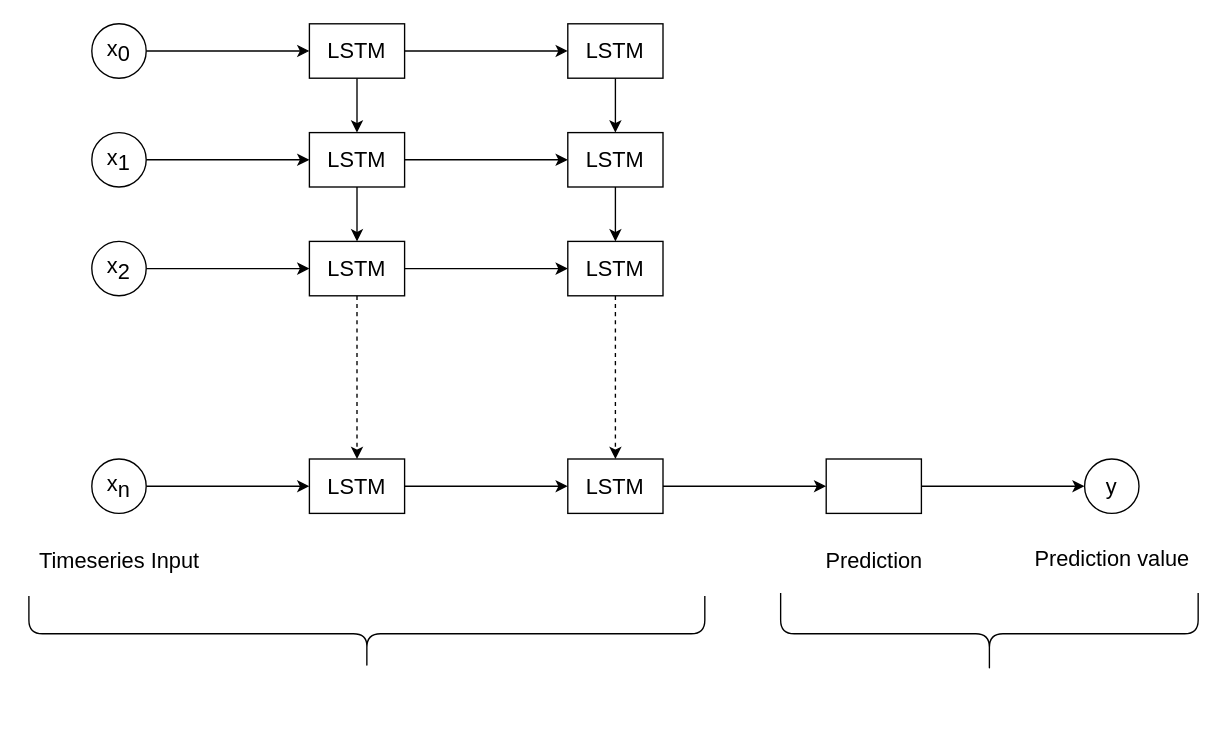
Image size: 1229x755. Some labels were removed from this diagram. The centre of each missing label's shape, as x and y in pixels:
Extracting Timeseries Data: point 366,633
Forecasting Future Demand: point 988,633
Output: point 873,485
